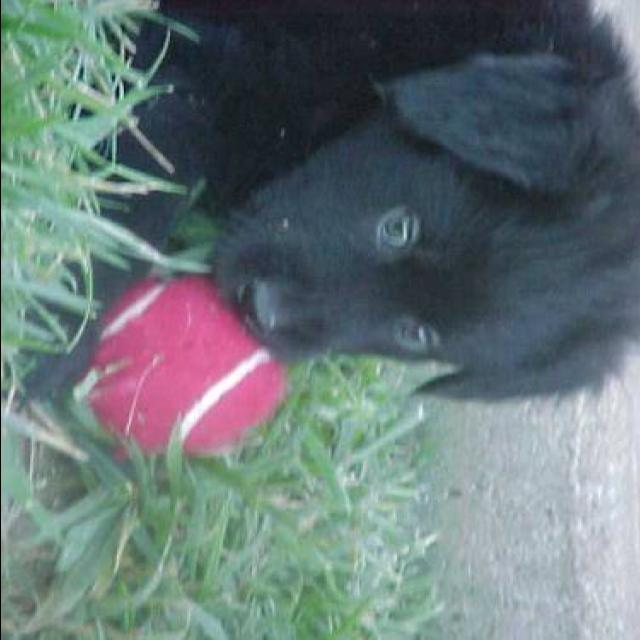dog: (48, 0, 640, 442)
